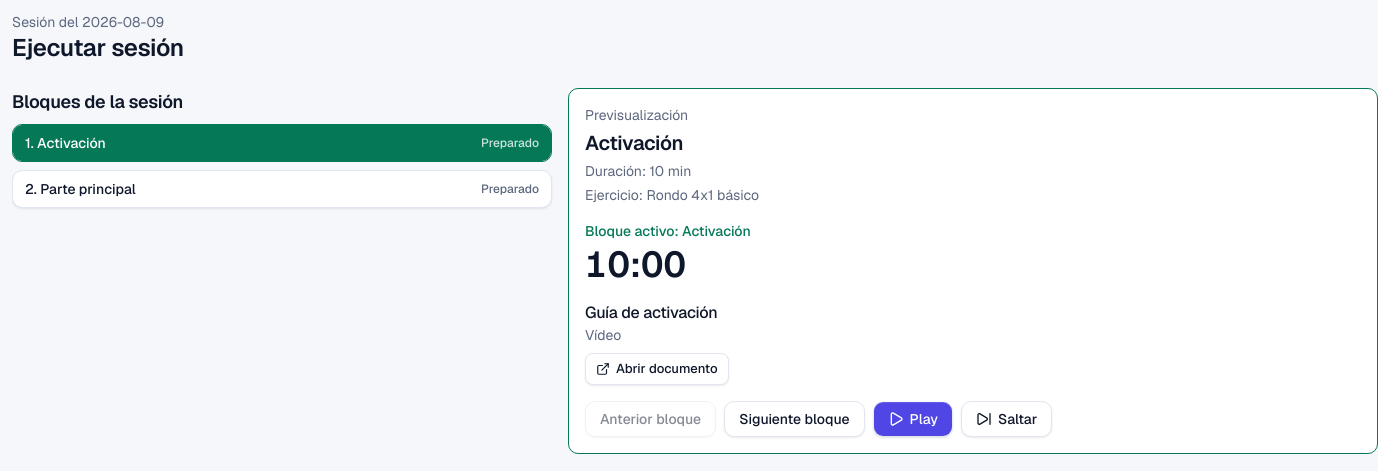
SesionEjecutarView › muestra el ejercicio del bloque previsualizado y lo actualiza al navegar
The image size is (1378, 471).
Check: the text "Ejercicio: Rondo 4x1 básico" is shown, box [585, 186, 759, 204]
Click the button "Siguiente bloque" at [794, 419], box [724, 401, 865, 437]
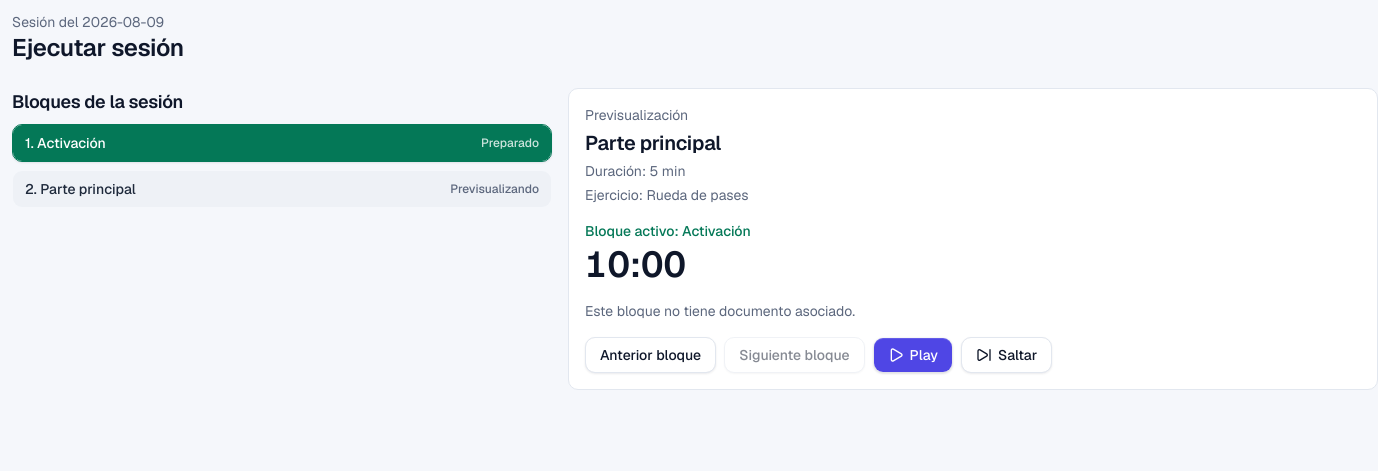
Check: the text "Ejercicio: Rueda de pases" is shown, box [585, 186, 748, 204]
Check: the text "Ejercicio: Rondo 4x1 básico" is gone
